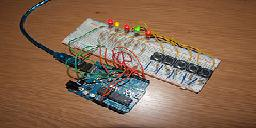LED: (132, 25, 143, 35), (104, 18, 113, 26), (123, 23, 131, 31), (113, 19, 120, 28)
